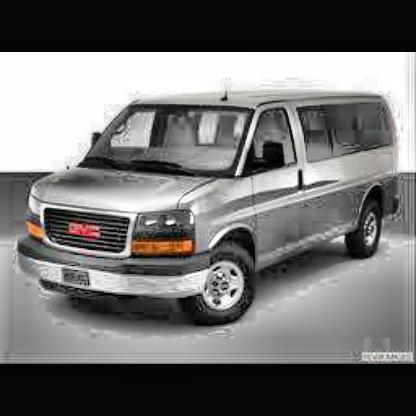GMC Savana Van 2012: (20, 90, 400, 332)
